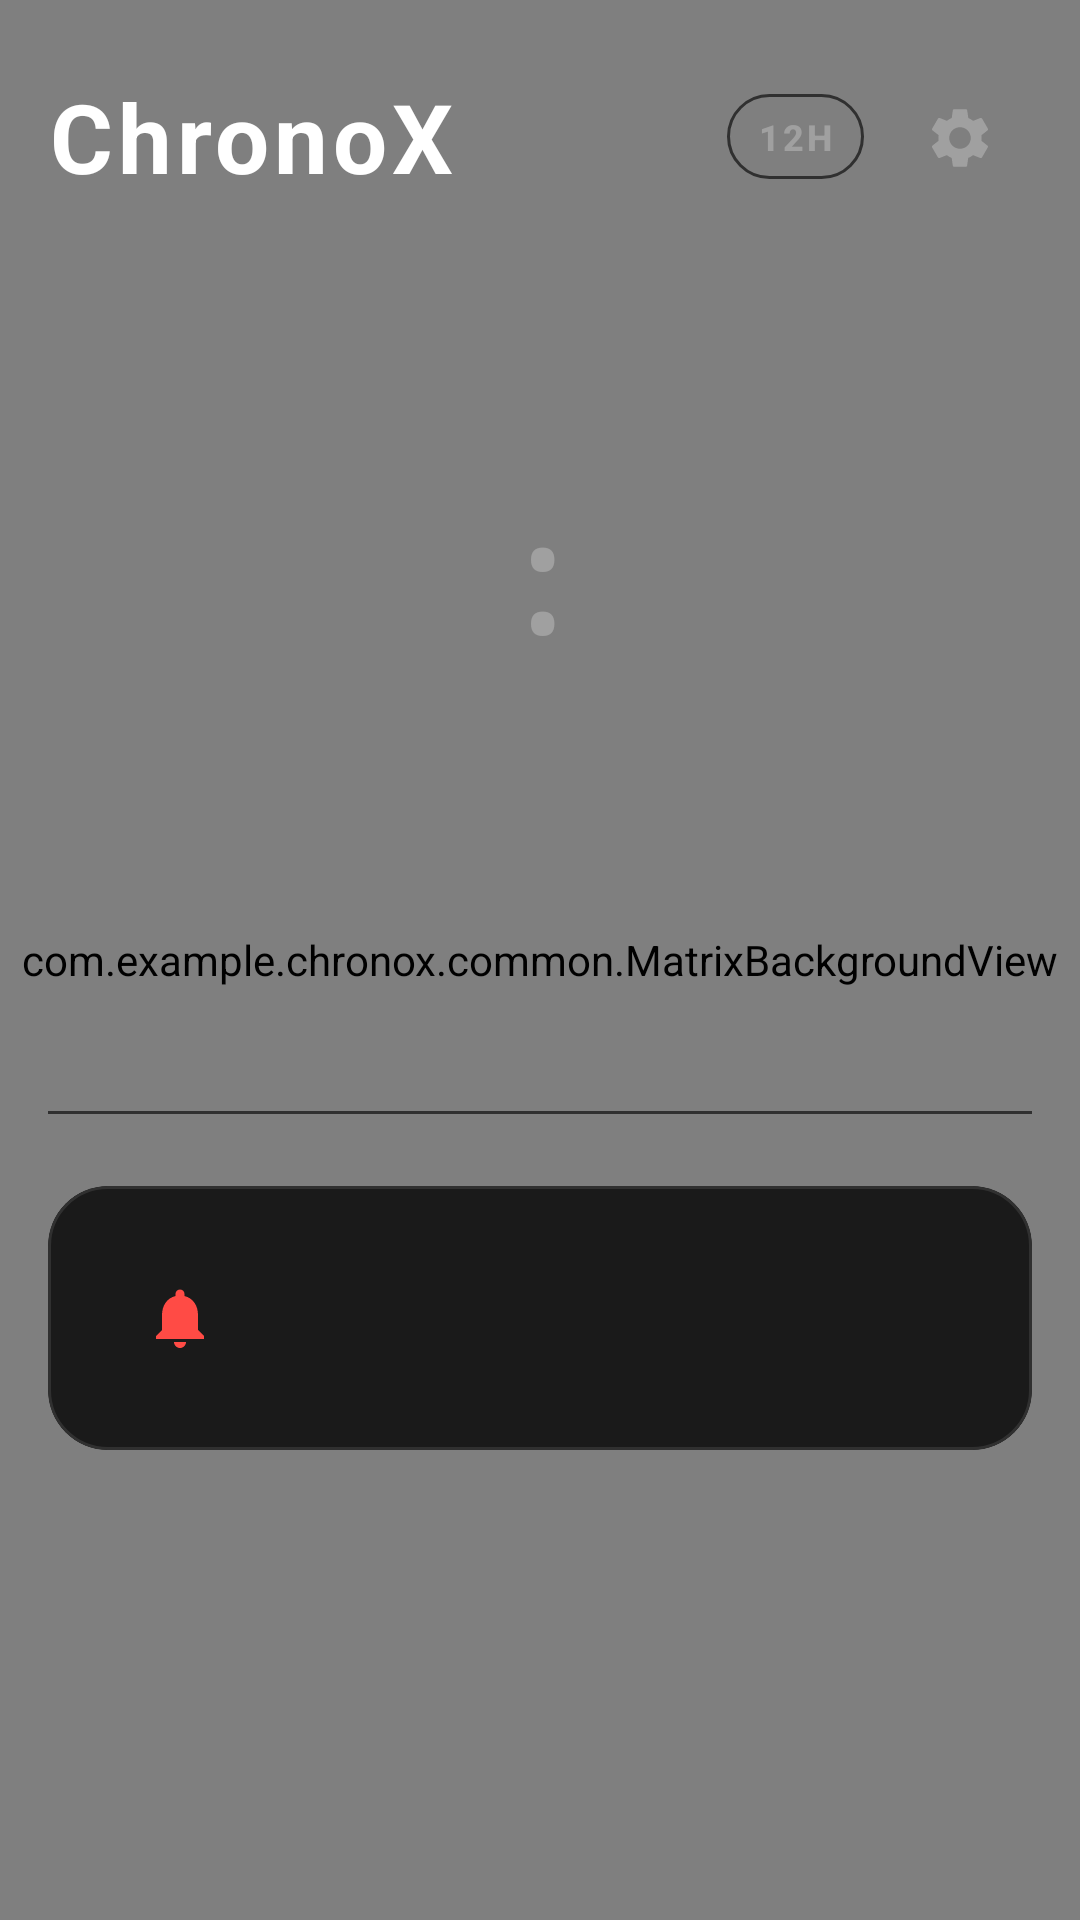

Icon bounding boxes for this 1080 × 1920 phone screenshot, format (x1, y1, x2, y2):
alarm: (156, 1289, 204, 1348)
Settings: (932, 109, 988, 167)
